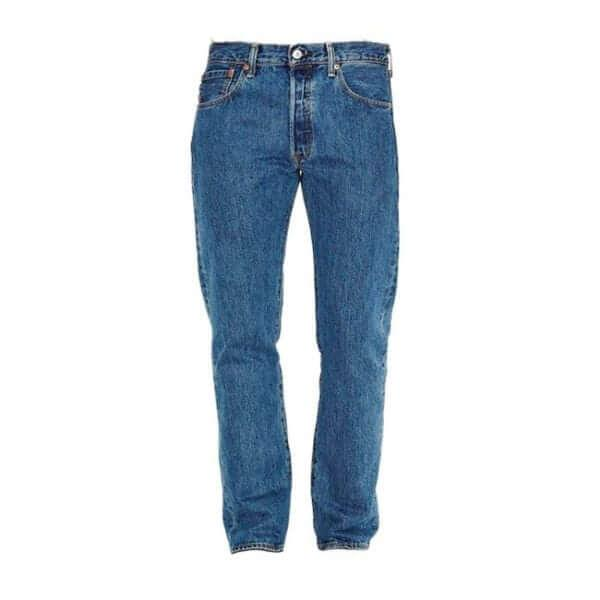jeans: (183, 33, 406, 563)
